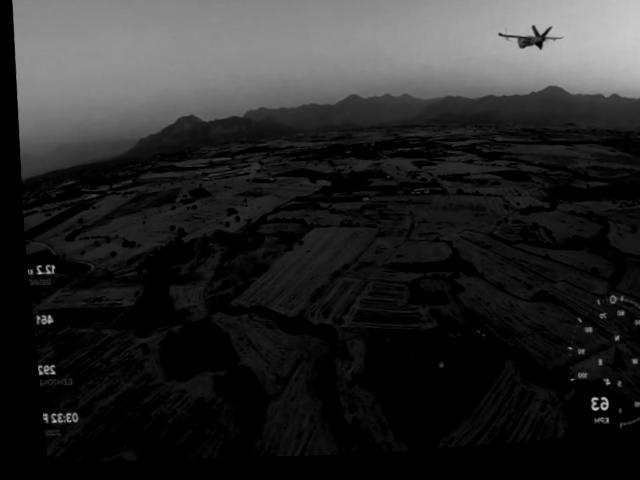hedef: (489, 24, 568, 71)
